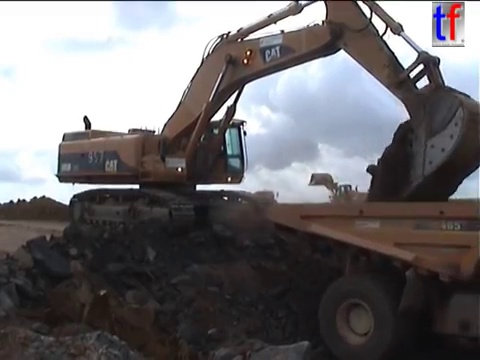excavator: (51, 1, 479, 242)
truck: (261, 196, 480, 360)
wheel loader: (307, 171, 375, 219)
